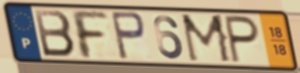6: (153, 15, 186, 61)
B: (32, 8, 78, 59)
F: (68, 8, 111, 61)
M: (179, 13, 235, 65)
P: (223, 14, 262, 66), (109, 10, 148, 62)
